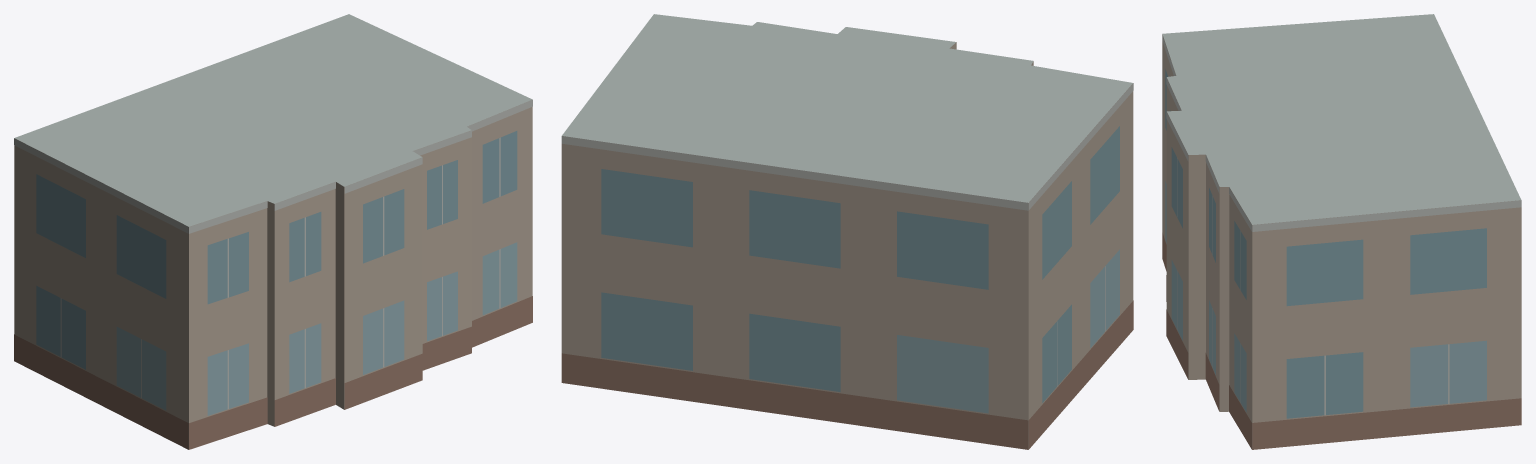
Rendered from survey-upis-32619557.glb.
3 views of the same model, side by side, from view 1: azimuth 30°, elevation 25°; view 2: azimuth 150°, elevation 25°; view 3: azimuth 270°, elevation 25° (orthographic). The views are drawn at different scales.
Visible parts, largest first — view 1: survey-upis-32619557.tmp; view 2: survey-upis-32619557.tmp; view 3: survey-upis-32619557.tmp.
Part boxes in pixels (<box>): survey-upis-32619557.tmp: <box>14,14,532,449</box>; survey-upis-32619557.tmp: <box>561,14,1133,449</box>; survey-upis-32619557.tmp: <box>1162,14,1521,449</box>.
Bounding box in the file's own units: 15.49 × 7.7 × 11.15.
